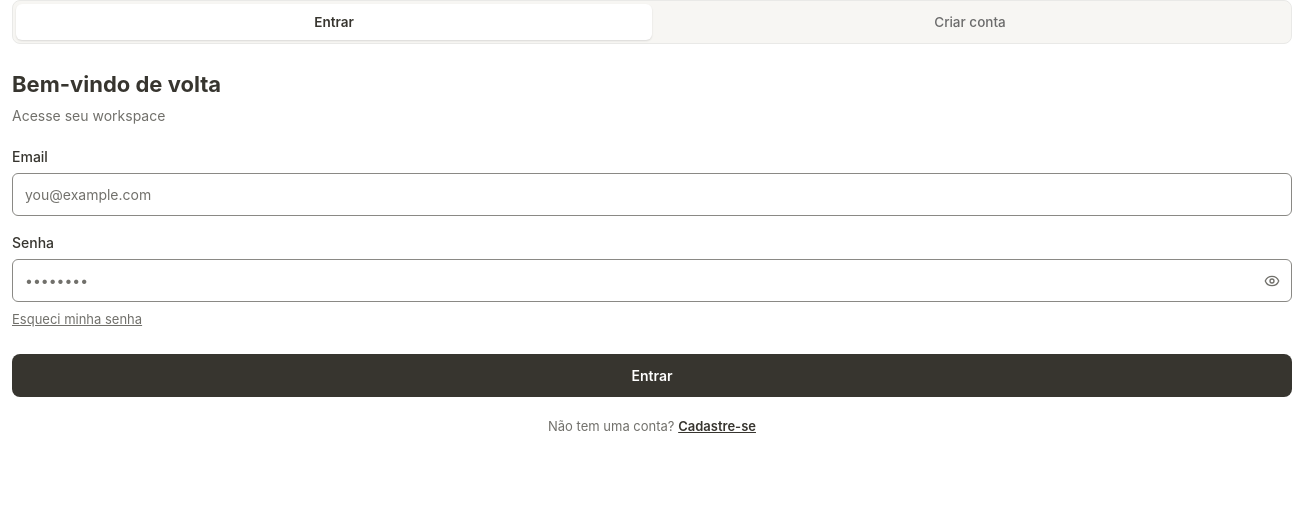
Test: AuthForm: login › erro conhecido do Supabase aparece traduzido
The width and height of the screenshot is (1304, 507).
In the field labelled "Email": (652, 195) [12,173,1292,216], type "pessoa@example.com"
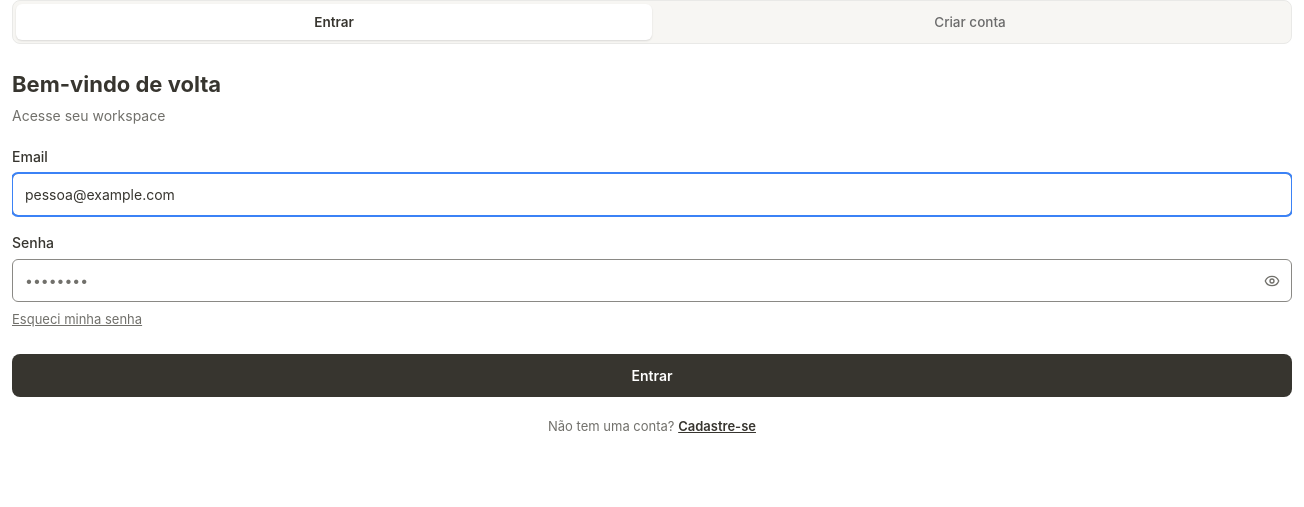
In the password field labelled "Senha": (652, 281) [12,259,1292,302], type "errada"
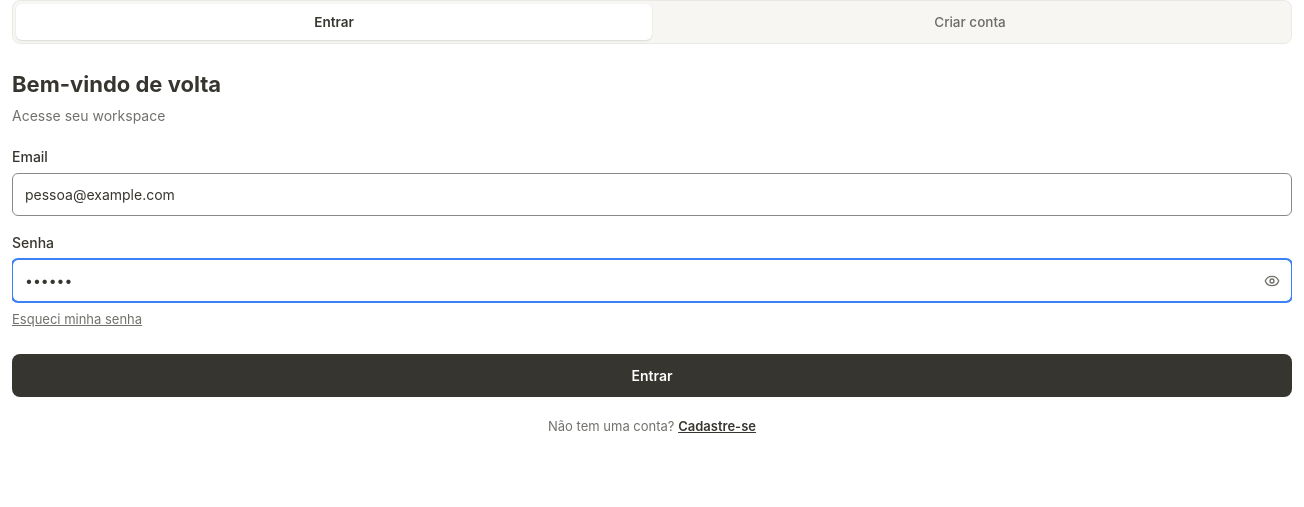
Press Enter
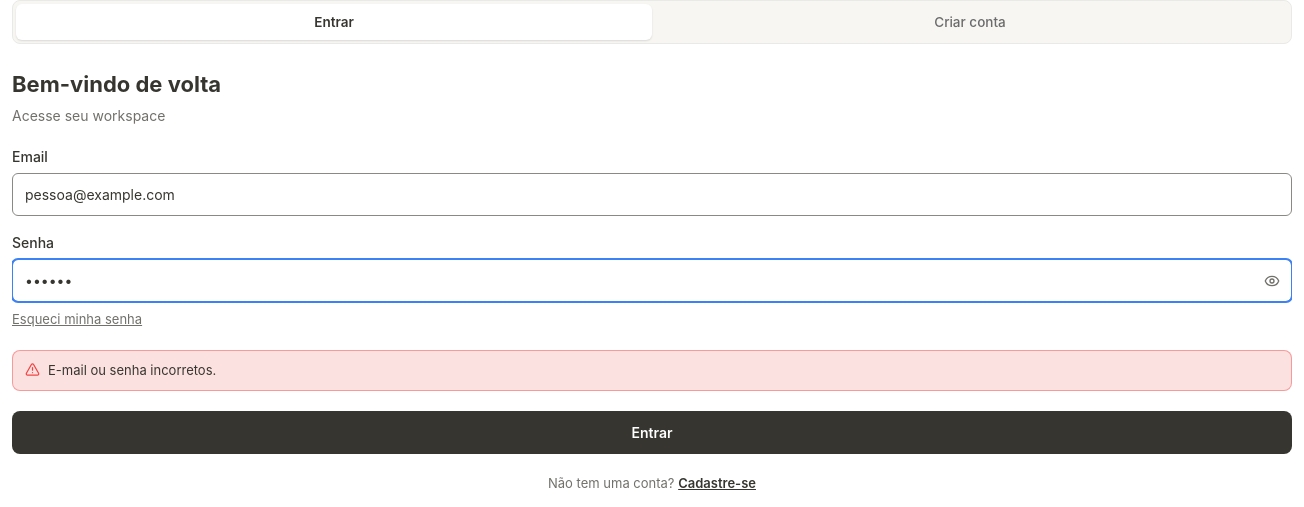
expect the message reads "E-mail ou senha incorretos.": met, box [48,362,216,378]
